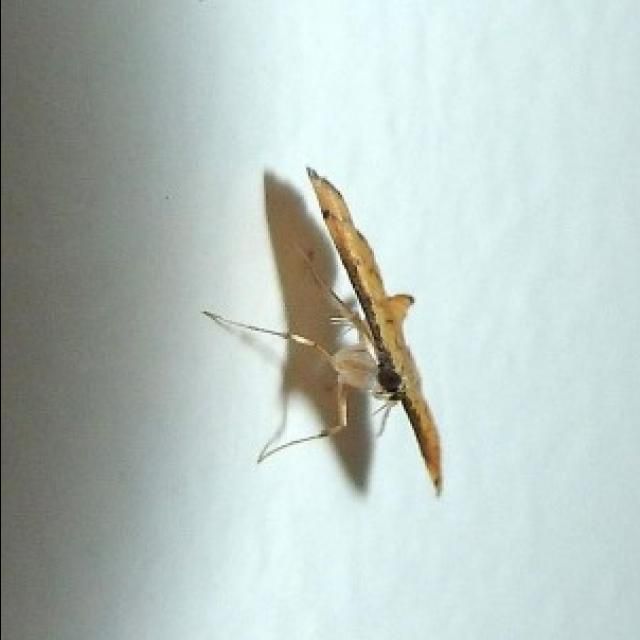rice leaf roller: (206, 170, 443, 496), (307, 259, 324, 290)
